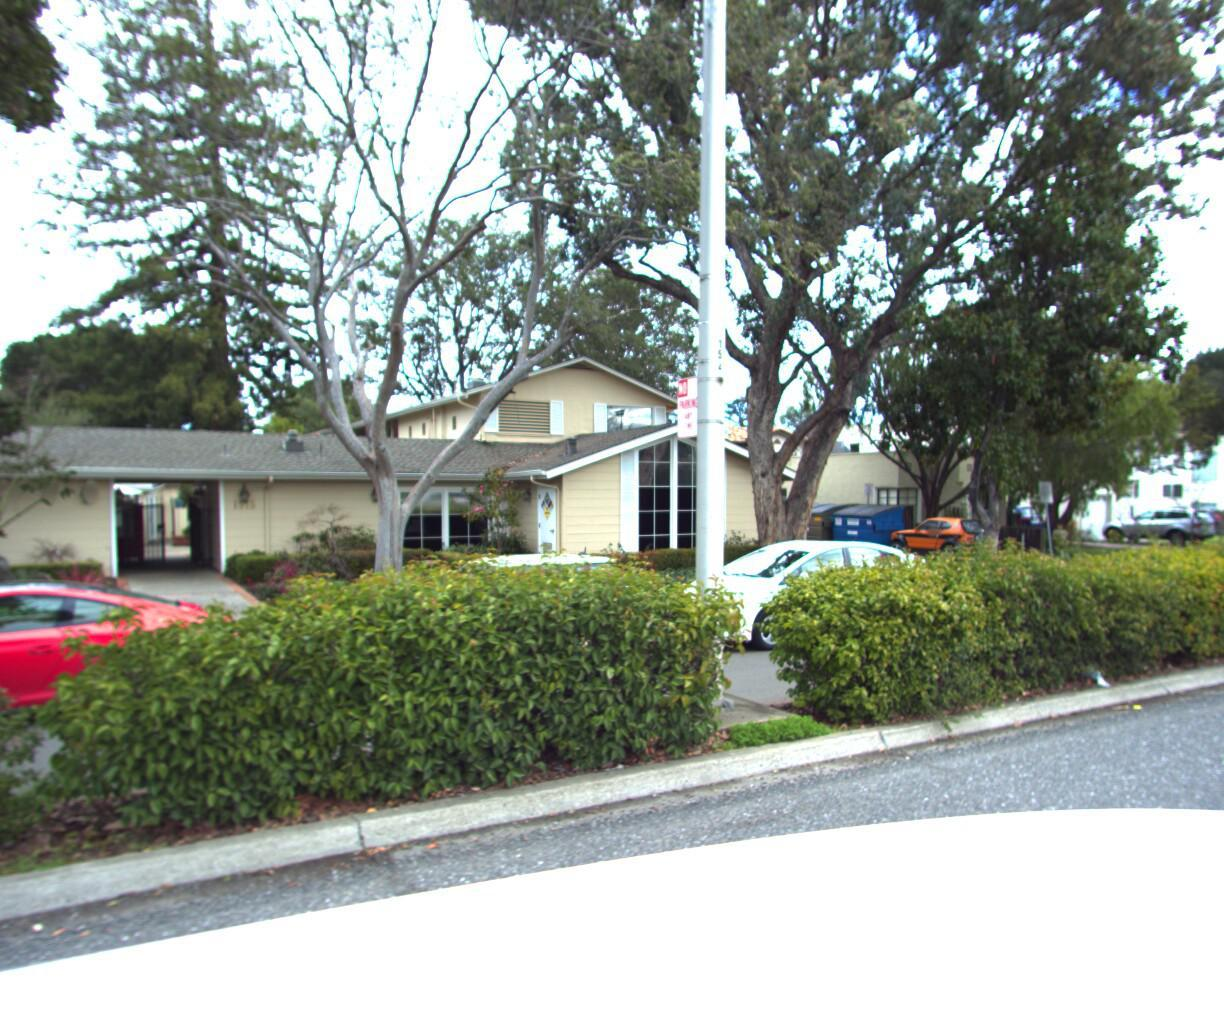car: (324, 538, 667, 703), (0, 559, 269, 768), (653, 523, 956, 651), (880, 506, 1006, 562), (1098, 498, 1224, 544)
